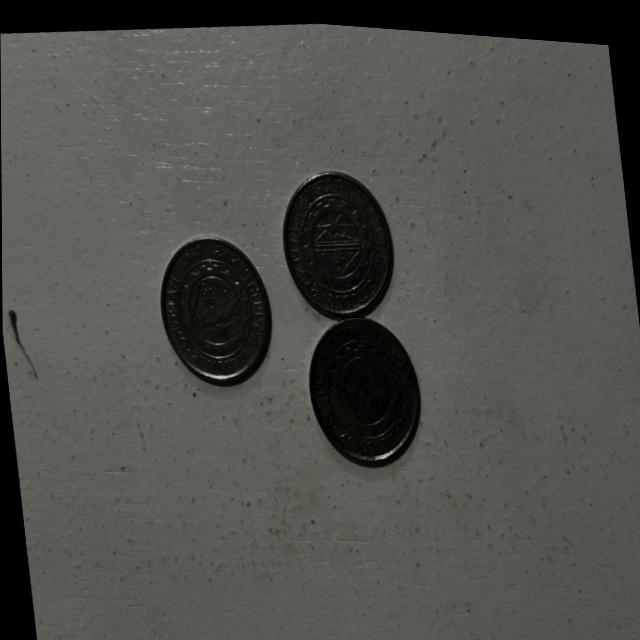1_Old_Back: (292, 177, 383, 301), (171, 245, 263, 365), (318, 329, 412, 446)
